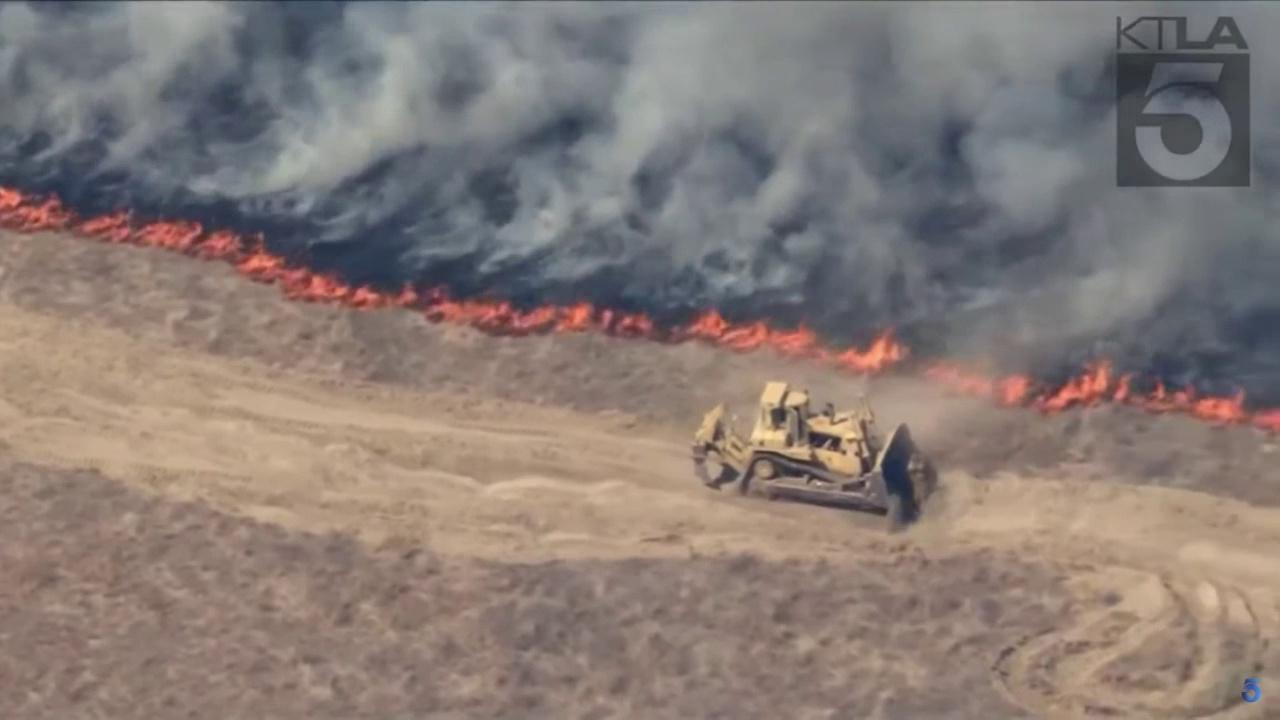fire: (0, 186, 906, 376), (925, 359, 1280, 438)
smoke: (0, 0, 1280, 381)
